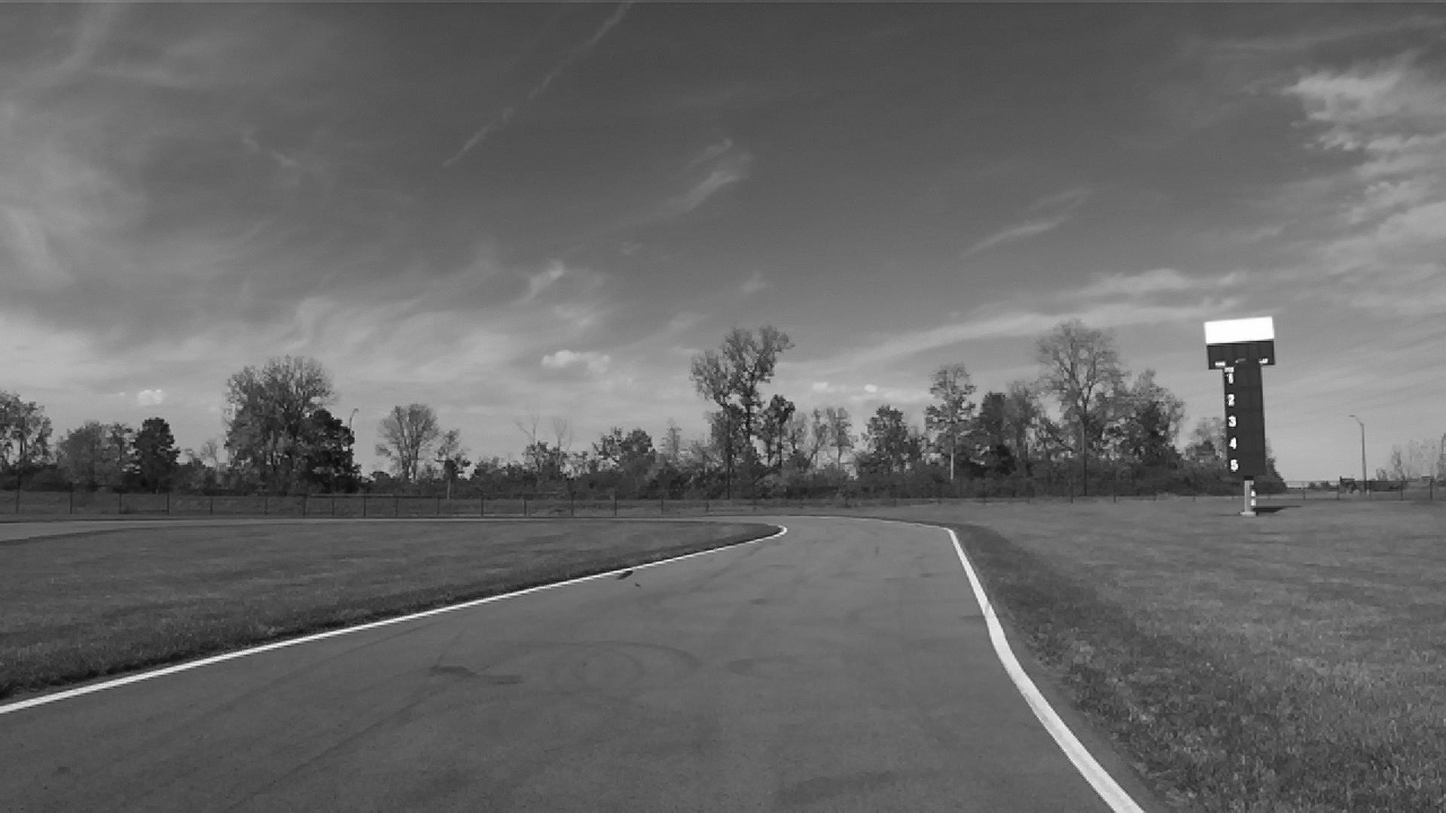white-line: (0, 525, 787, 714), (940, 527, 1143, 812)
